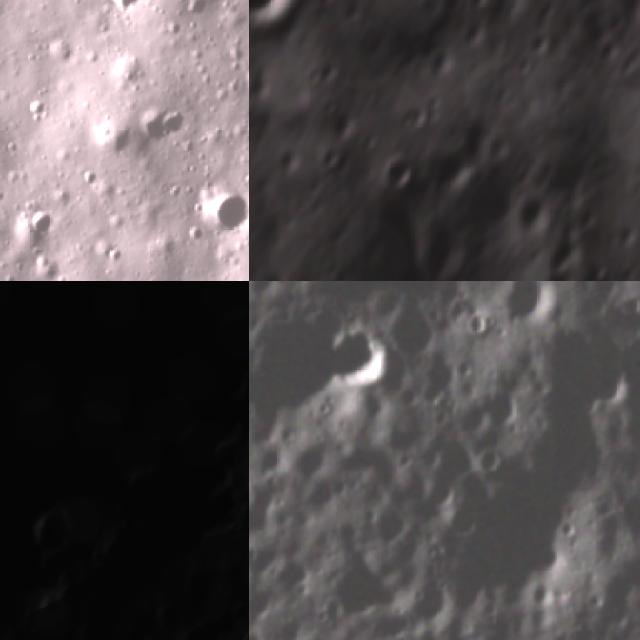crater: (295, 183, 517, 281), (249, 306, 348, 429), (452, 146, 526, 235), (331, 544, 408, 618), (537, 128, 598, 206), (333, 320, 394, 393), (496, 281, 562, 332), (29, 505, 78, 570), (202, 175, 249, 238), (425, 141, 477, 197), (425, 434, 477, 489), (138, 100, 192, 150), (377, 143, 422, 194), (514, 182, 554, 236), (608, 397, 640, 463), (160, 612, 232, 640), (481, 383, 524, 429), (609, 479, 640, 540), (612, 332, 640, 398), (274, 550, 314, 594), (23, 204, 62, 244), (308, 50, 347, 90), (456, 11, 494, 52), (46, 31, 82, 74), (312, 137, 350, 177), (575, 252, 626, 281), (413, 25, 448, 62), (521, 24, 555, 62), (423, 623, 489, 640), (462, 306, 491, 341), (574, 202, 604, 235), (481, 436, 504, 476), (411, 0, 451, 22), (364, 627, 427, 640), (108, 0, 148, 18), (257, 265, 295, 281), (465, 0, 499, 13)
